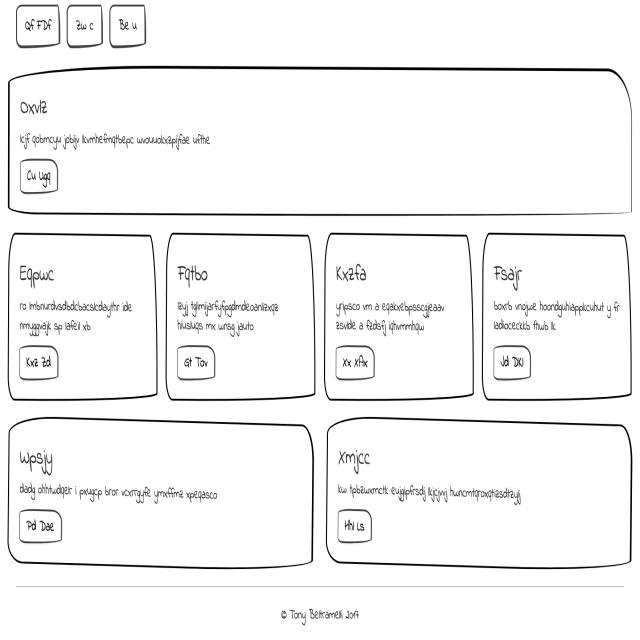Button: (16, 505, 69, 552), (14, 158, 72, 197), (173, 340, 220, 388), (334, 341, 386, 384), (490, 338, 533, 382), (334, 503, 377, 544), (18, 344, 68, 379)
Card: (6, 68, 637, 222), (3, 412, 318, 574), (324, 416, 638, 576), (475, 228, 637, 412), (319, 235, 481, 408), (7, 231, 164, 406), (165, 230, 318, 409)
Footer: (2, 579, 639, 640)
Heading 6: (12, 436, 67, 478), (18, 251, 64, 290), (335, 436, 380, 472), (173, 255, 217, 290), (330, 256, 373, 291), (492, 256, 532, 292), (14, 91, 55, 117)
Navigation Bar: (11, 2, 154, 52)
Paragraph: (15, 472, 221, 509), (330, 470, 530, 506), (489, 289, 625, 335), (15, 290, 136, 340), (17, 125, 215, 154), (330, 291, 452, 335), (175, 296, 286, 337)
